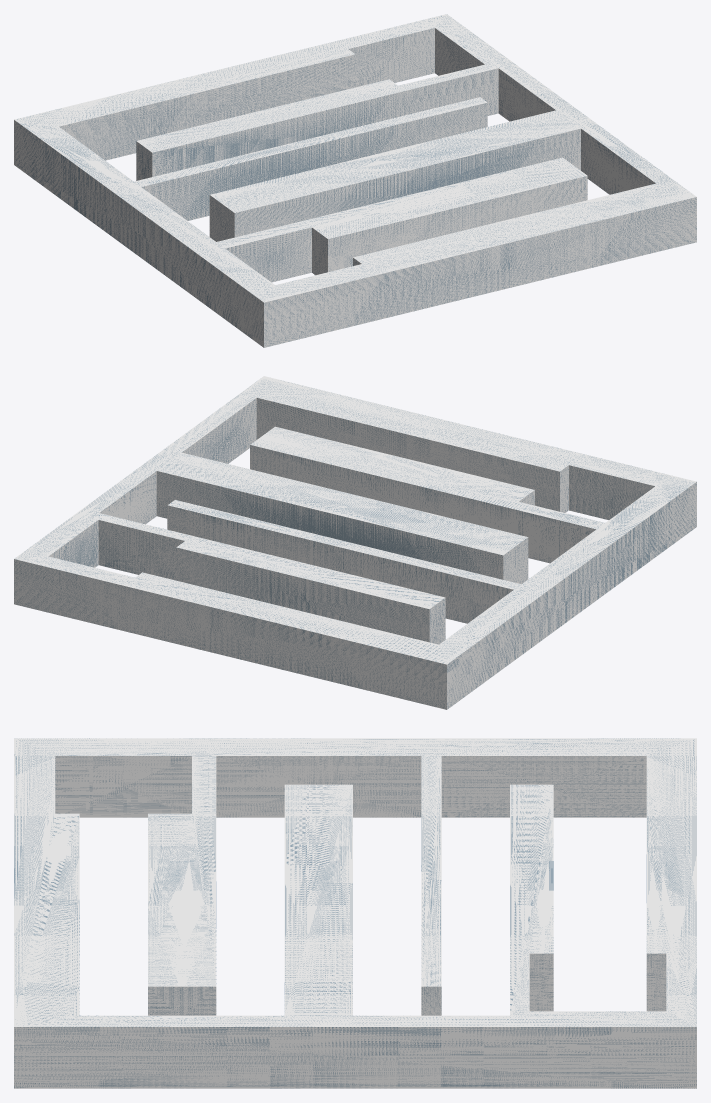
The picture shows the model from 3 angles, top to bottom: view 1: azimuth 30°, elevation 25°; view 2: azimuth 150°, elevation 25°; view 3: azimuth 270°, elevation 25°; orthographic projection. The views are drawn at different scales.
Parts seen in each view (by area): view 1: Model; view 2: Model; view 3: Model.
Boxes of the visible parts, x1=… form: Model: x1=14, y1=14, x2=696, y2=347; Model: x1=14, y1=376, x2=696, y2=709; Model: x1=14, y1=738, x2=696, y2=1088.
Size of the model in its own units: 0.1 by 0.01 by 0.1.
